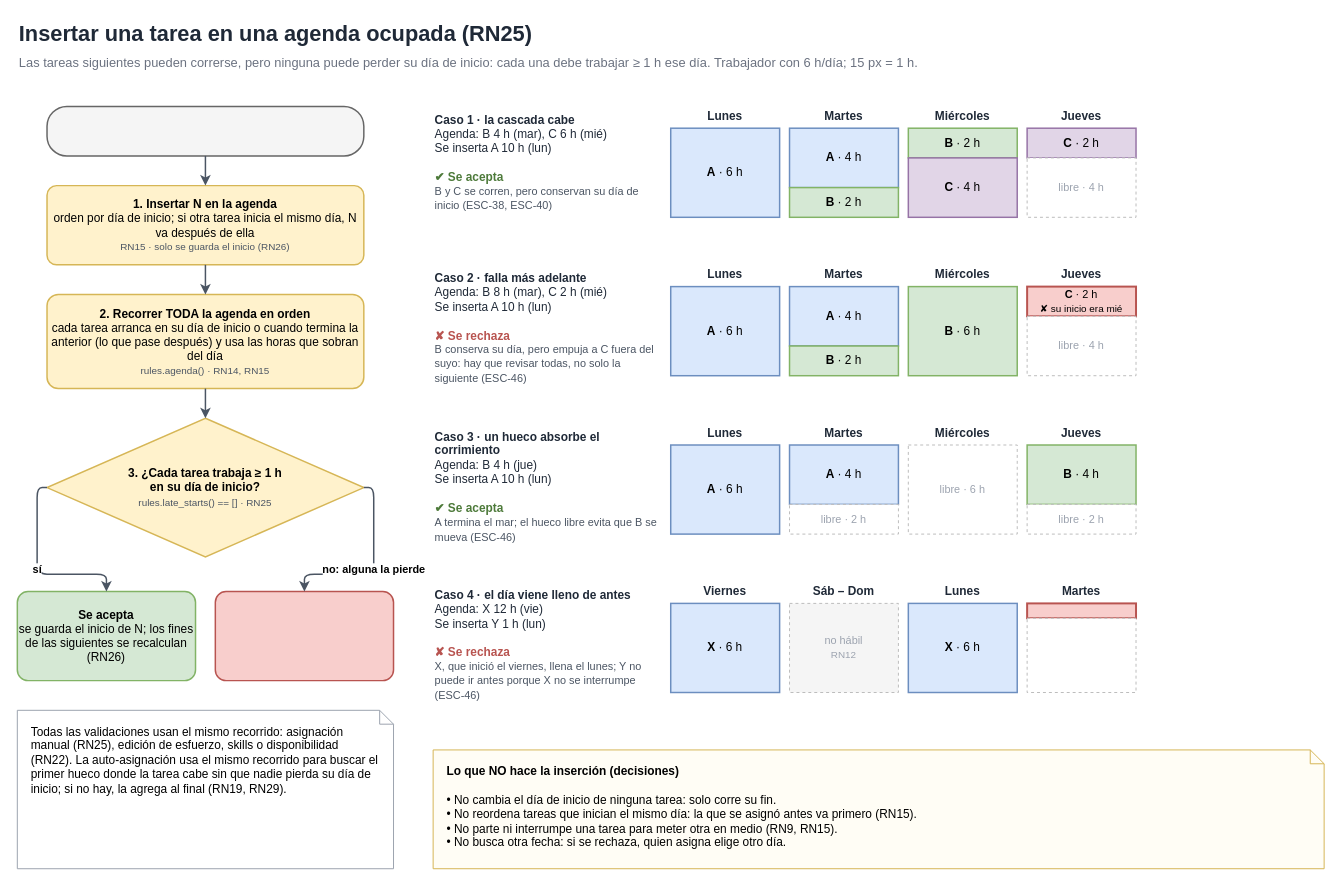
Some shapes in this 1342 by 886 pixel diagram are drawn without their labels. Each missing label, with the centre of its shape:
libre · 5 h: the point at 1081,655
Nueva tarea N con inicio D asignación manual, edición (RN22) o auto-asignación: the point at 205,130
Se rechaza WorkerBusy (409); la agenda queda como estaba: the point at 304,635
Y · 1 h ✘: the point at 1081,610
